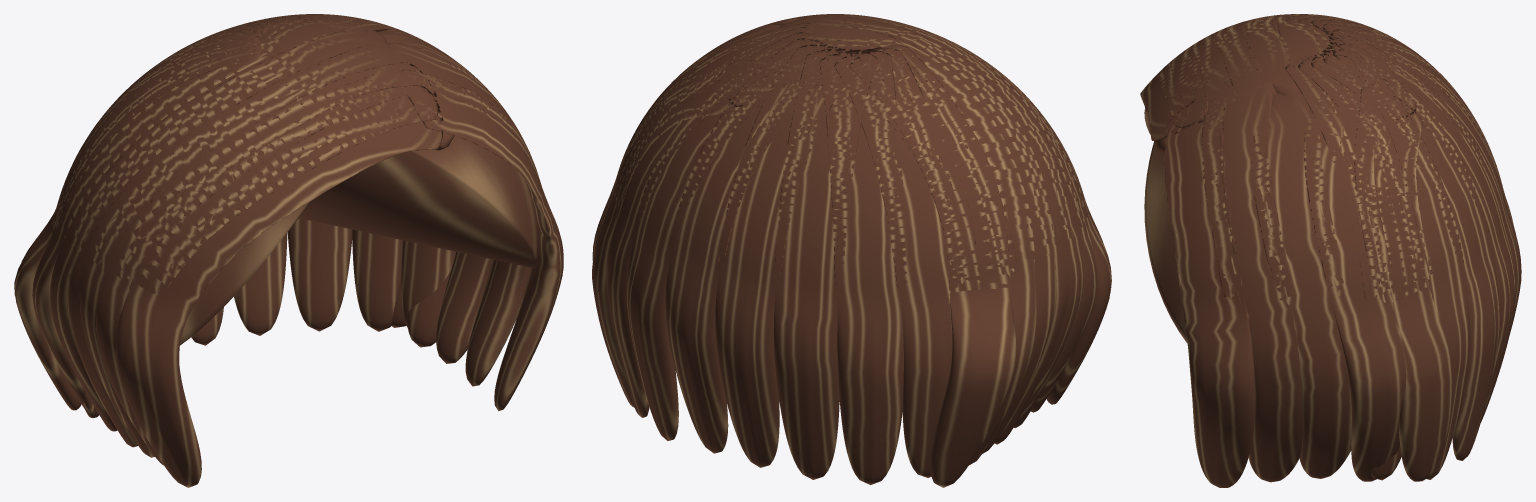
The model's file is Highlights-7c408895751a252-hair.glb.
The picture shows the model from 3 angles, left to right: view 1: azimuth 30°, elevation 25°; view 2: azimuth 150°, elevation 25°; view 3: azimuth 270°, elevation 25°; orthographic projection. The views are drawn at different scales.
Parts seen in each view (by area): view 1: 226 hair / Hair / sculpted 0.001, 226 hair / Hair / sculpted 1.001, 226 hair / Hair / sculpted 2.001, 226 hair / Hair / sculpted 1.002; view 2: 226 hair / Hair / sculpted 0.001, 226 hair / Hair / sculpted 2.001, 226 hair / Hair / sculpted 1.001; view 3: 226 hair / Hair / sculpted 1.001, 226 hair / Hair / sculpted 2.001, 226 hair / Hair / sculpted 0.001, 226 hair / Hair / sculpted 1.002.
Boxes of the visible parts, x1=… form: 226 hair / Hair / sculpted 0.001: x1=14, y1=14, x2=502, y2=487; 226 hair / Hair / sculpted 1.001: x1=50, y1=14, x2=563, y2=465; 226 hair / Hair / sculpted 2.001: x1=32, y1=14, x2=536, y2=457; 226 hair / Hair / sculpted 1.002: x1=180, y1=136, x2=537, y2=345; 226 hair / Hair / sculpted 0.001: x1=627, y1=14, x2=1111, y2=487; 226 hair / Hair / sculpted 2.001: x1=592, y1=14, x2=1084, y2=477; 226 hair / Hair / sculpted 1.001: x1=592, y1=14, x2=1096, y2=484; 226 hair / Hair / sculpted 1.001: x1=1157, y1=14, x2=1515, y2=487; 226 hair / Hair / sculpted 2.001: x1=1180, y1=14, x2=1521, y2=482; 226 hair / Hair / sculpted 0.001: x1=1140, y1=14, x2=1512, y2=478; 226 hair / Hair / sculpted 1.002: x1=1144, y1=107, x2=1187, y2=343.
Bounding box in the file's own units: 1 × 0.8172 × 0.7544.
Materials: 4 (4 with a texture image).
